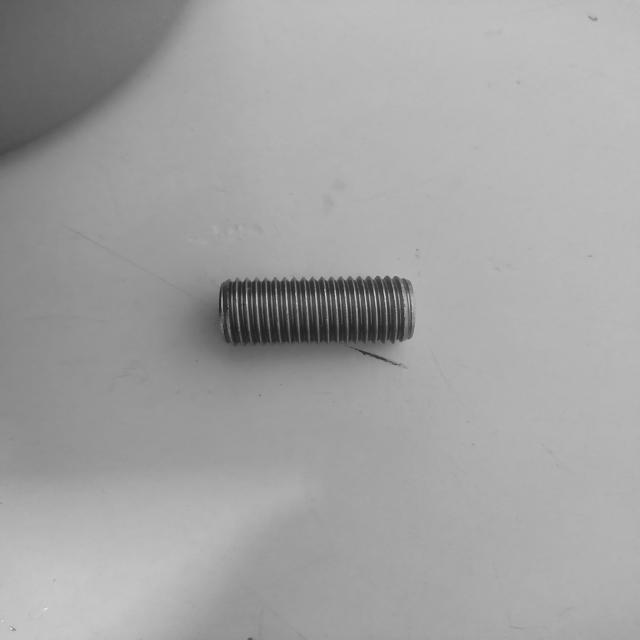Normal: (216, 273, 418, 348)
